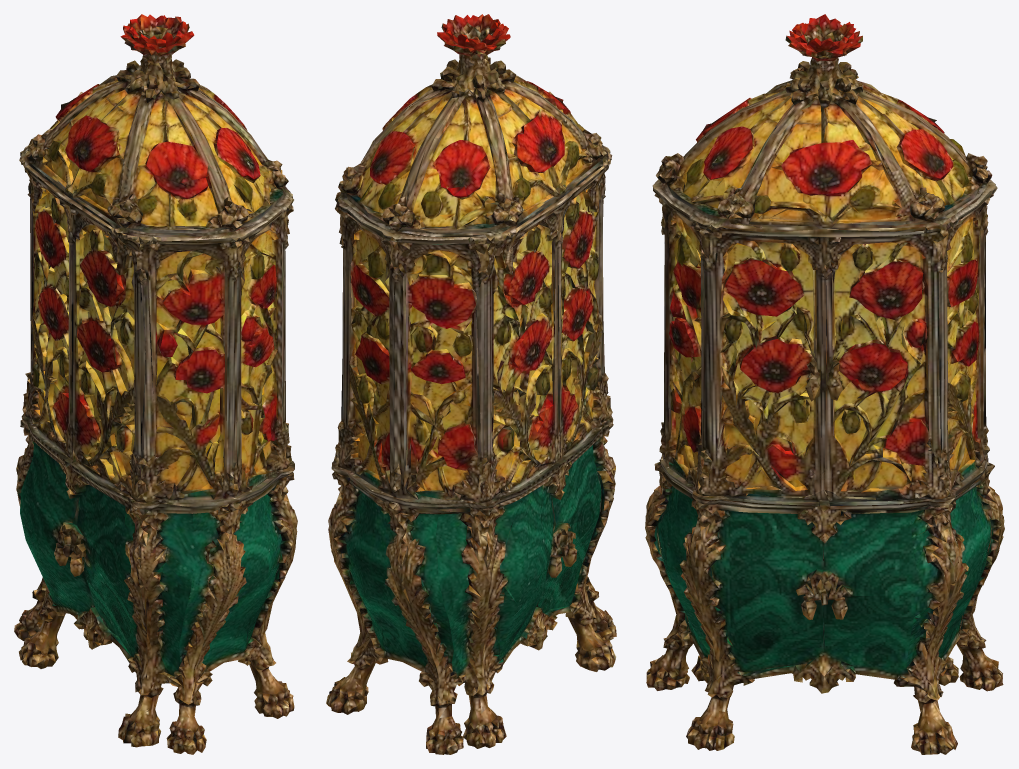
Rendered from MO-04_tall_cabinet_game.glb.
3 views of the same model, side by side, from view 1: azimuth 30°, elevation 25°; view 2: azimuth 150°, elevation 25°; view 3: azimuth 270°, elevation 25° (orthographic). The views are drawn at different scales.
Visible parts, largest first — view 1: MO-04_tall_cabinet; view 2: MO-04_tall_cabinet; view 3: MO-04_tall_cabinet.
Boxes of the visible parts, bbox=[...] form: MO-04_tall_cabinet: bbox=[14, 14, 297, 754]; MO-04_tall_cabinet: bbox=[326, 14, 616, 754]; MO-04_tall_cabinet: bbox=[645, 14, 1004, 754].
Size of the model in its own units: 0.597 by 1.9 by 0.9037.
Materials: 1 (1 with a texture image).
